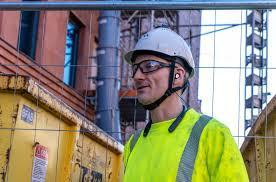Hard_hat: (121, 27, 205, 78)
Vest: (117, 107, 255, 182)
Visor: (128, 61, 172, 79)
